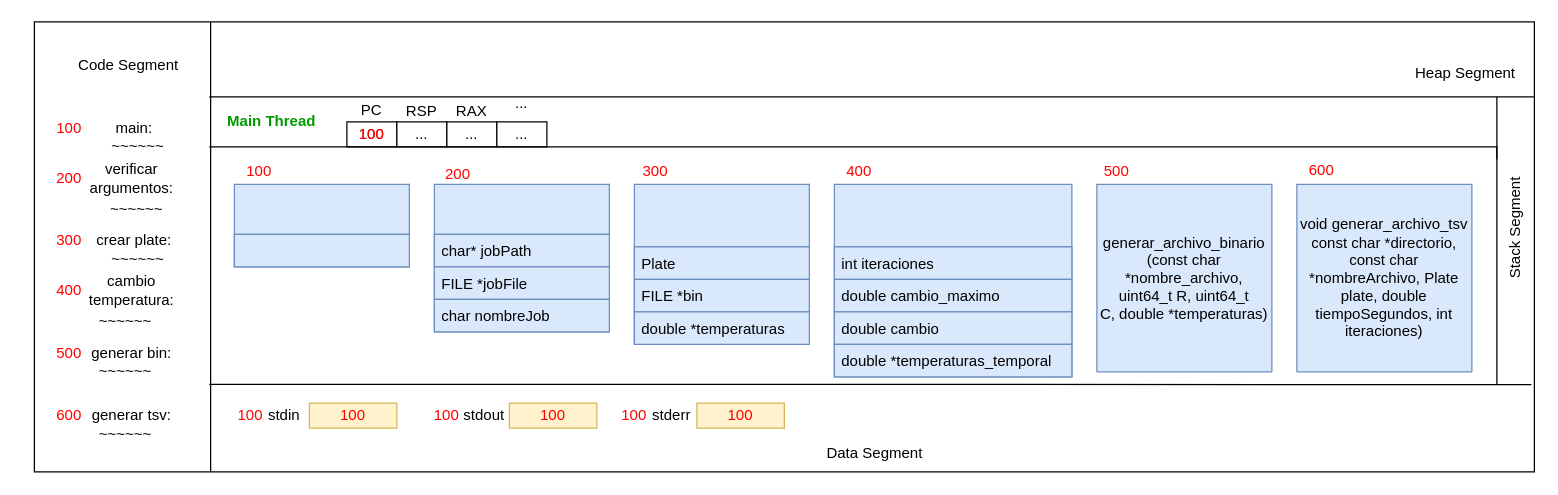
Image size: 1558x495. Some labels were removed from this diagram. Each missing label, with the box of its shape:
cambio_temperatura(double* temperaturas, Plate plate): (833, 183, 1072, 377)
crear_plate(const char *linea, const char *nombreJob): (633, 183, 809, 344)
main(int argc, char *argv[]): (233, 183, 409, 267)
verificar_argumentos(int argc, char *argv[]): (433, 183, 609, 332)
